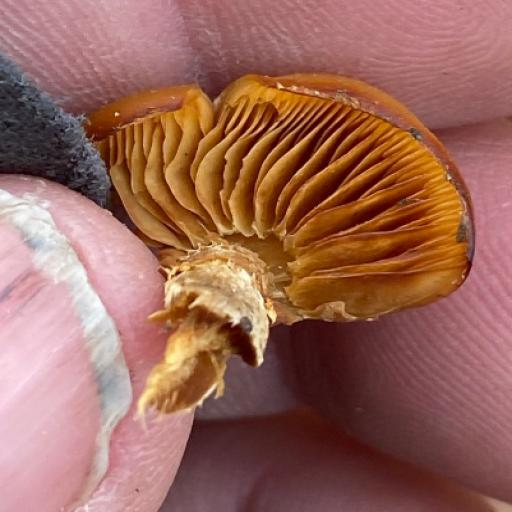mushroom: (74, 22, 507, 420)
